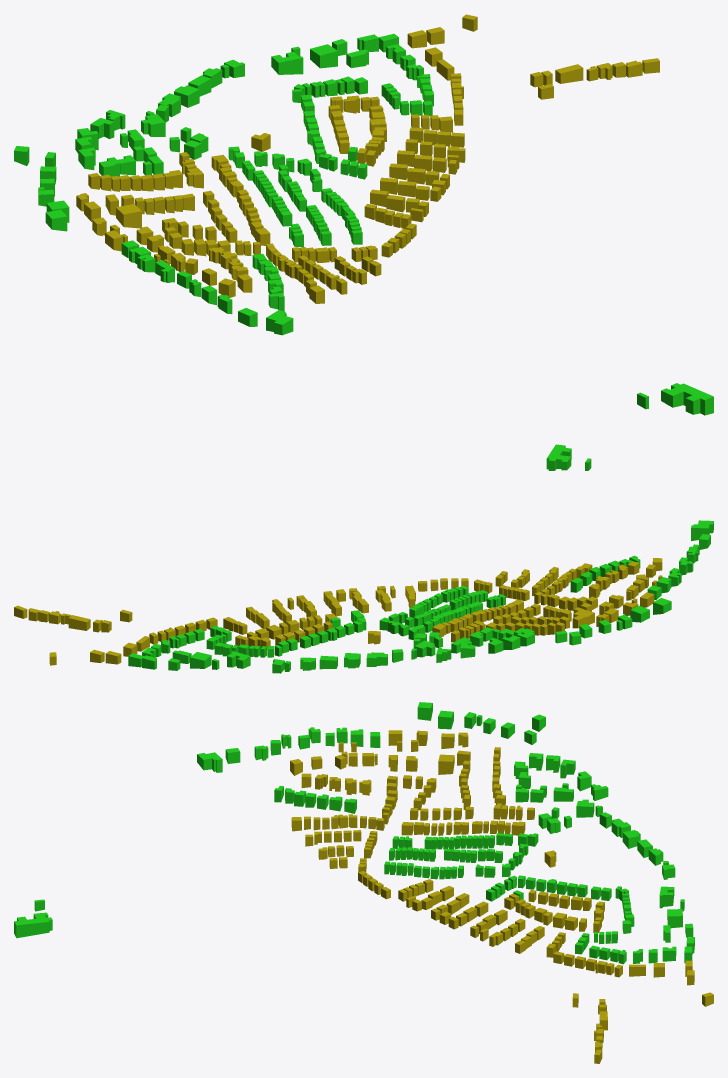
3 renders of one model, top to bottom at view 1: azimuth 30°, elevation 25°; view 2: azimuth 150°, elevation 25°; view 3: azimuth 270°, elevation 25°, orthographic. The views are drawn at different scales.
Visible parts, largest first — view 1: stage_4; view 2: stage_4; view 3: stage_4.
Part boxes in pixels (box(x1,y1,x2,y2)): stage_4: box(14, 14, 713, 415); stage_4: box(14, 444, 713, 673); stage_4: box(14, 702, 713, 1063).
Bounding box in the file's own units: 1452 × 219 × 1559.
